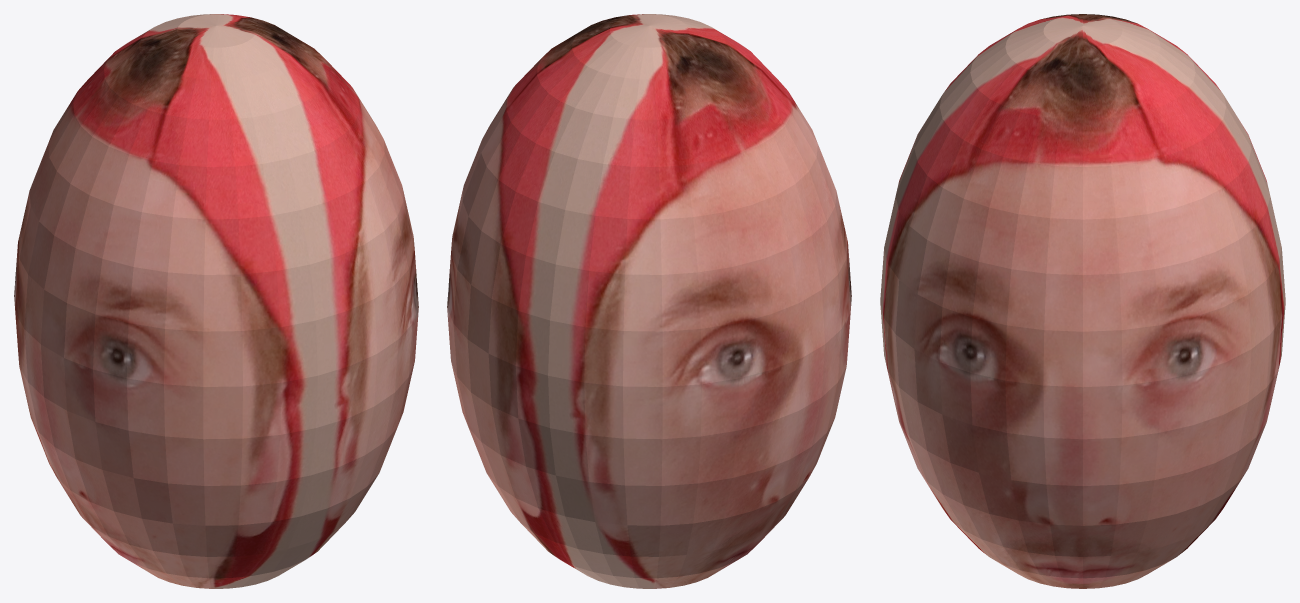
Rendered from Tomilov.glb.
3 views of the same model, side by side, from view 1: azimuth 30°, elevation 25°; view 2: azimuth 150°, elevation 25°; view 3: azimuth 270°, elevation 25° (orthographic).
Parts seen in each view (by area): view 1: Sphere; view 2: Sphere; view 3: Sphere.
Boxes of the visible parts, x1,y1,x2,y2 form: Sphere: (14,14,418,588); Sphere: (447,14,851,588); Sphere: (880,14,1285,588).
Bounding box in the file's own units: 2 × 3 × 2.
1 material, 1 textured.
